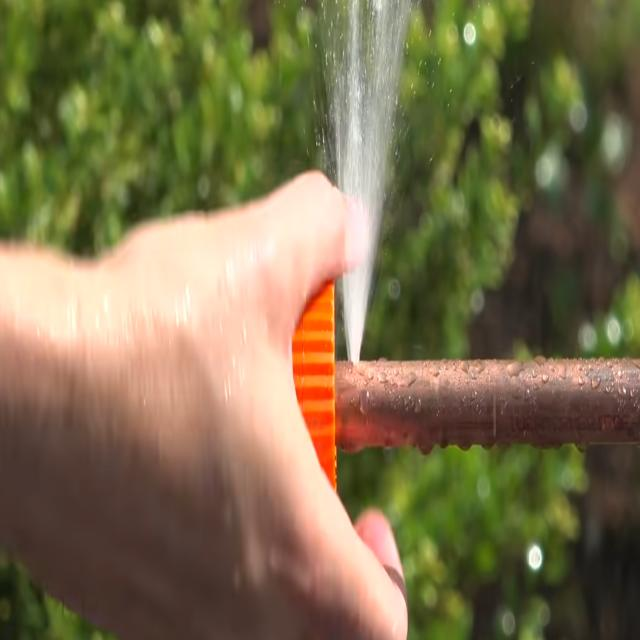leak: (324, 0, 411, 363)
